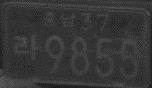3: (78, 11, 93, 31)
5: (93, 35, 115, 80)
6: (118, 35, 140, 80)
7: (94, 11, 110, 33)
8: (69, 35, 91, 77)
9: (45, 34, 65, 75)
라: (13, 32, 41, 62)
충남_O: (40, 9, 76, 31)
